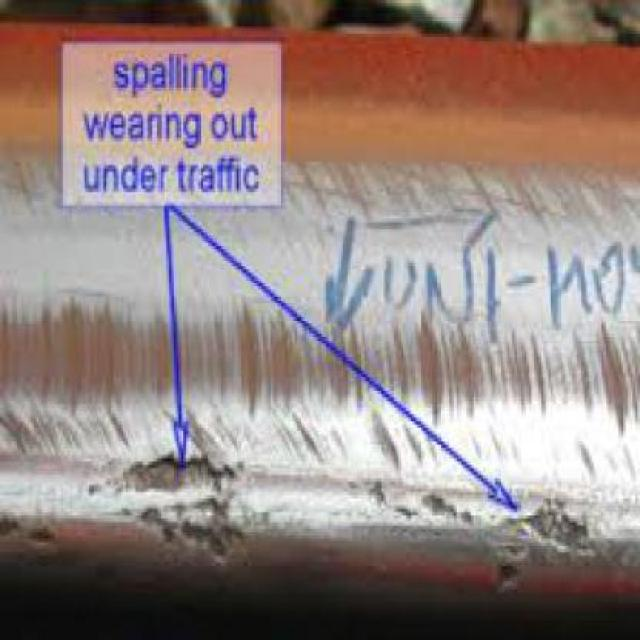defective: (0, 16, 640, 629)
